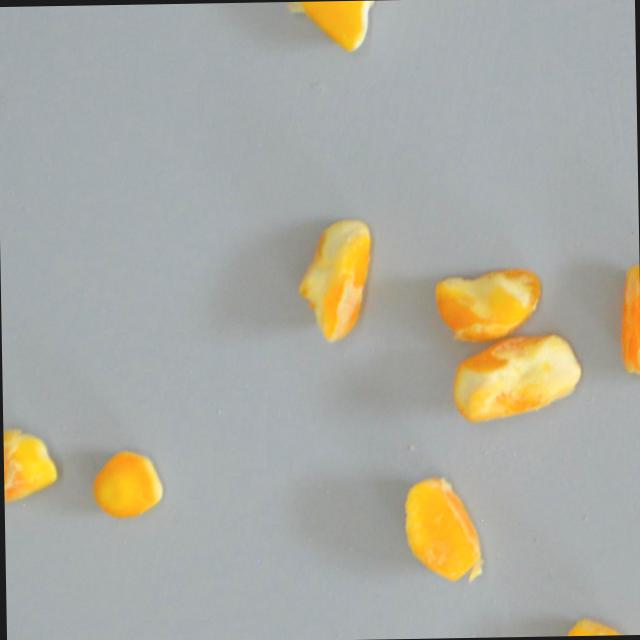dañado: (447, 329, 585, 429), (294, 213, 375, 347), (398, 472, 486, 588), (428, 262, 546, 348), (88, 446, 164, 523), (284, 0, 386, 57), (2, 424, 59, 511), (611, 256, 640, 392), (561, 611, 636, 636)
